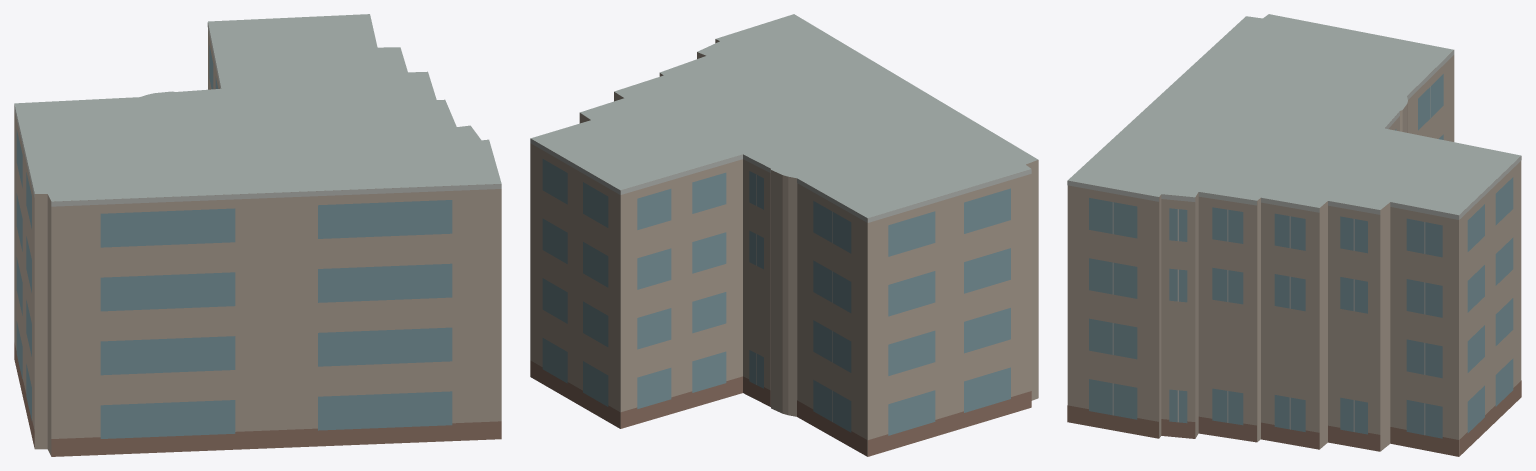
File: survey-upis-33037354.glb
3 renders of one model, left to right at view 1: azimuth 30°, elevation 25°; view 2: azimuth 150°, elevation 25°; view 3: azimuth 270°, elevation 25°, orthographic. The views are drawn at different scales.
Visible parts, largest first — view 1: survey-upis-33037354.tmp; view 2: survey-upis-33037354.tmp; view 3: survey-upis-33037354.tmp.
Part boxes in pixels (left/top/right/bottom): survey-upis-33037354.tmp: left=14, top=14, right=501, bottom=456; survey-upis-33037354.tmp: left=530, top=14, right=1038, bottom=456; survey-upis-33037354.tmp: left=1067, top=14, right=1521, bottom=456.
Bounding box in the file's own units: 21.8 × 12.2 × 20.78.
